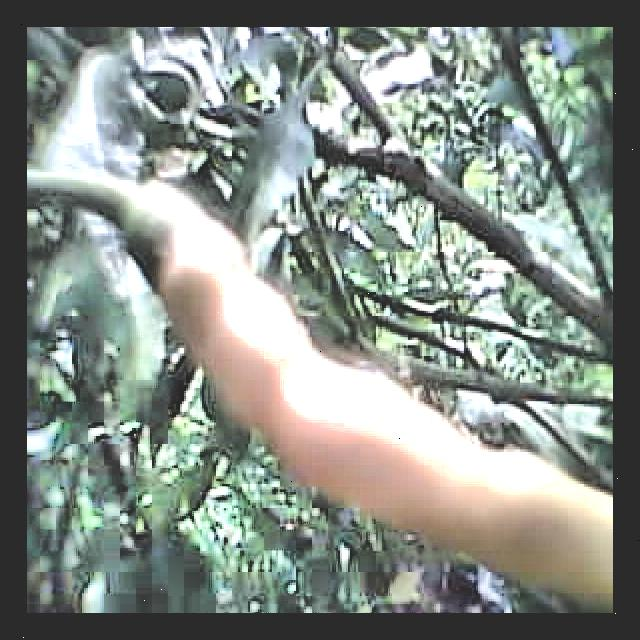Cabai: (96, 176, 613, 598)
